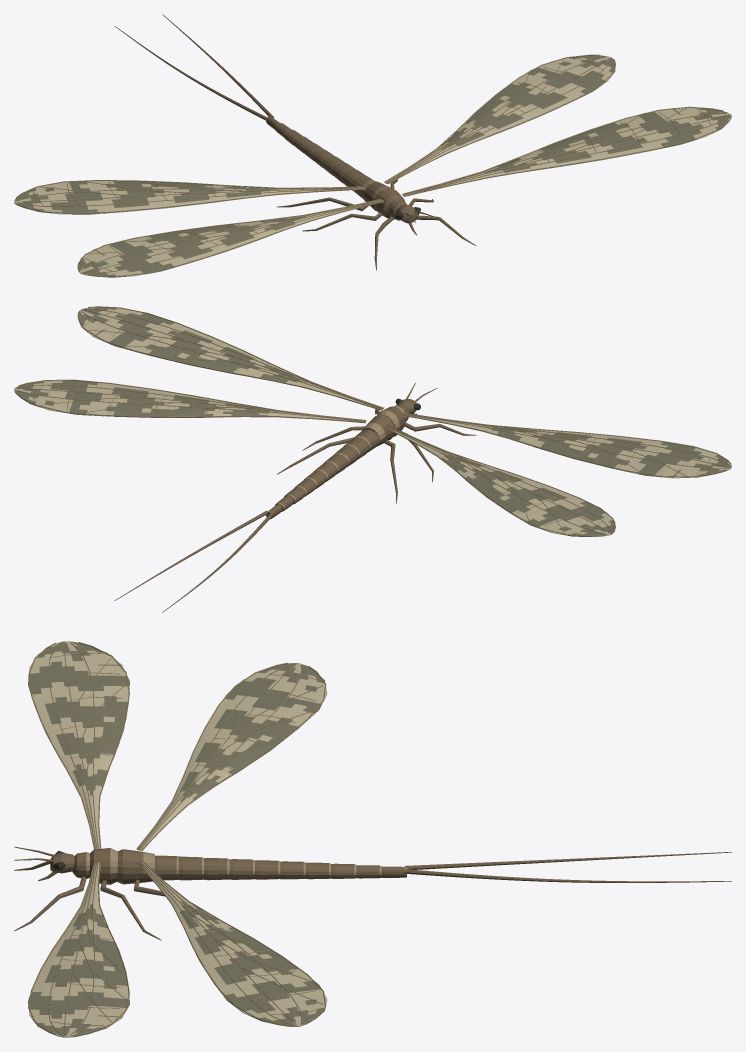
The picture shows the model from 3 angles, top to bottom: view 1: azimuth 30°, elevation 25°; view 2: azimuth 150°, elevation 25°; view 3: azimuth 270°, elevation 25°; orthographic projection. The views are drawn at different scales.
Parts seen in each view (by area): view 1: Four-patterned-petiolate-wings, Sparse-interpretive-wing-veins, Head-thorax-and-ten-abdominal-segments, Six-walking-legs-and-paired-appendages; view 2: Four-patterned-petiolate-wings, Sparse-interpretive-wing-veins, Head-thorax-and-ten-abdominal-segments, Six-walking-legs-and-paired-appendages; view 3: Four-patterned-petiolate-wings, Sparse-interpretive-wing-veins, Head-thorax-and-ten-abdominal-segments, Six-walking-legs-and-paired-appendages.
Boxes of the visible parts, x1,y1,x2,y2 form: Four-patterned-petiolate-wings: (14,55,731,277); Sparse-interpretive-wing-veins: (16,54,731,276); Head-thorax-and-ten-abdominal-segments: (266,116,418,223); Six-walking-legs-and-paired-appendages: (114,14,476,270); Four-patterned-petiolate-wings: (14,307,731,536); Sparse-interpretive-wing-veins: (15,306,731,536); Head-thorax-and-ten-abdominal-segments: (266,399,416,519); Six-walking-legs-and-paired-appendages: (114,382,476,612); Four-patterned-petiolate-wings: (28,641,327,1037); Sparse-interpretive-wing-veins: (28,642,326,1035); Head-thorax-and-ten-abdominal-segments: (50,848,406,884); Six-walking-legs-and-paired-appendages: (14,846,731,940).
Size of the model in its own units: 0.0998 by 0.00738 by 0.0765.
